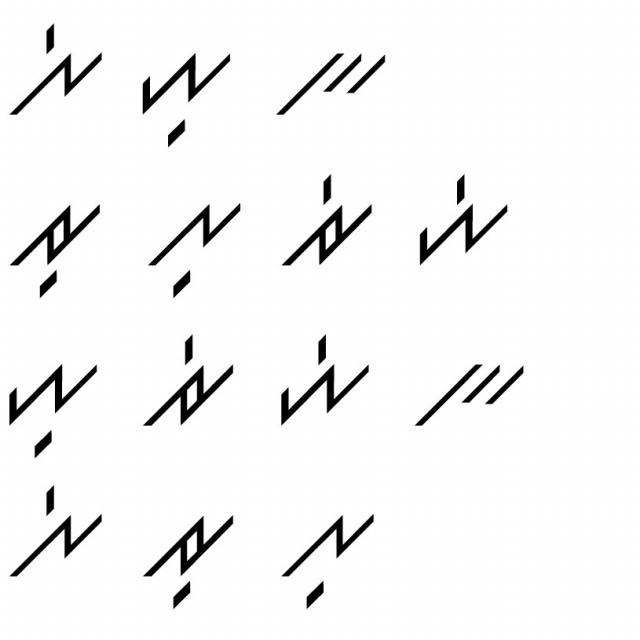le: (7, 20, 108, 130), (7, 486, 116, 584)
lu: (277, 504, 378, 613), (143, 194, 245, 301)
re: (273, 164, 378, 282), (138, 334, 236, 430)
ru: (138, 502, 242, 616), (9, 196, 102, 298)
ye: (274, 328, 379, 433), (407, 172, 519, 269)
yu: (135, 41, 237, 153), (6, 347, 107, 459)
